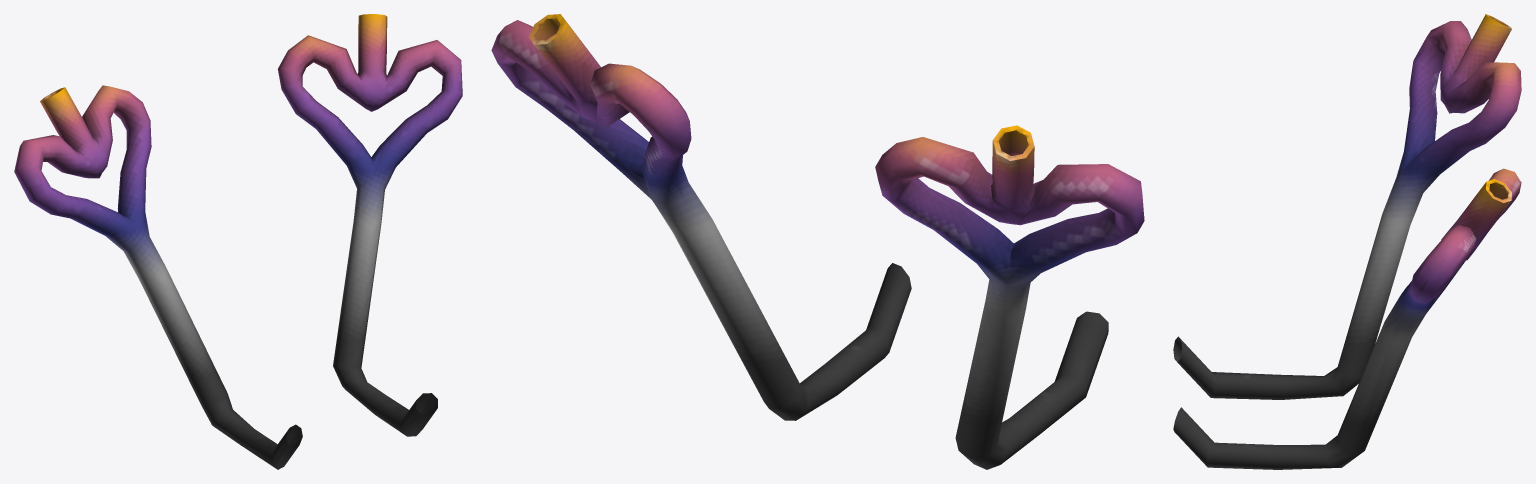
Rendered from exhaust.fbx.
3 renders of one model, left to right at view 1: azimuth 30°, elevation 25°; view 2: azimuth 150°, elevation 25°; view 3: azimuth 270°, elevation 25°, orthographic. The views are drawn at different scales.
Parts seen in each view (by area): view 1: echapperment; view 2: echapperment; view 3: echapperment.
Part boxes in pixels (x1,y1,x2,y2): echapperment: (14, 14, 462, 469); echapperment: (491, 14, 1144, 469); echapperment: (1173, 14, 1521, 469).
Bounding box in the file's own units: 366 × 244 × 230.
